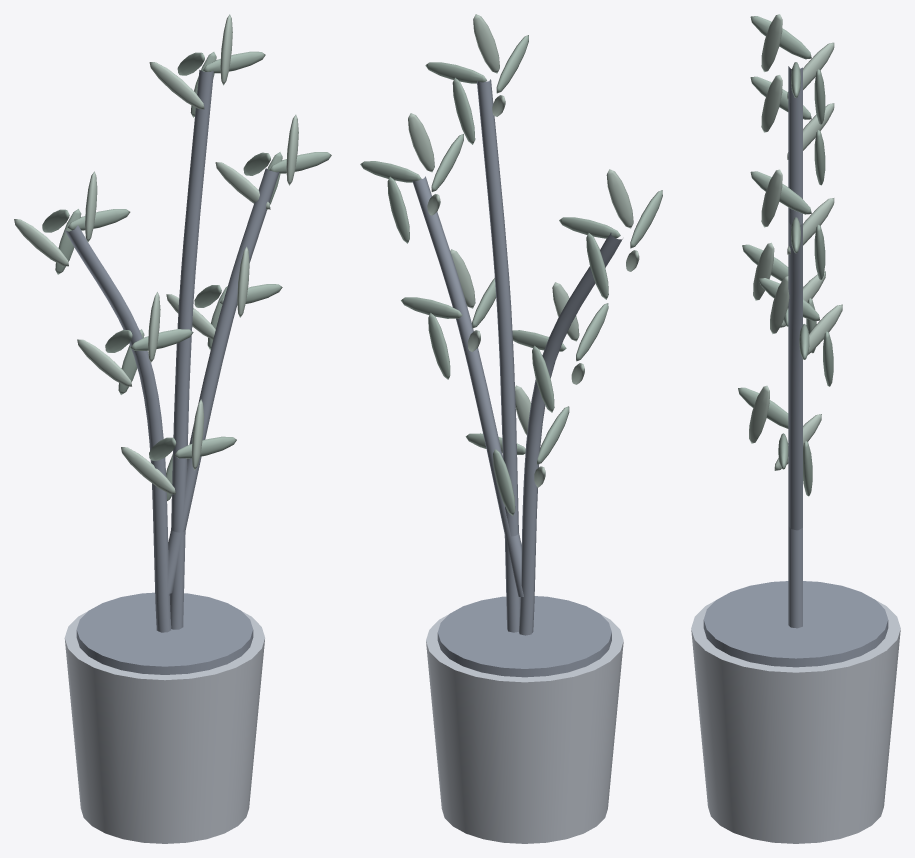
File: plant-lite.glb
3 views of the same model, side by side, from view 1: azimuth 30°, elevation 25°; view 2: azimuth 150°, elevation 25°; view 3: azimuth 270°, elevation 25° (orthographic). The views are drawn at different scales.
Visible parts, largest first — view 1: plant; view 2: plant; view 3: plant.
Boxes of the visible parts, x1=… form: plant: x1=14, y1=14, x2=331, y2=843; plant: x1=360, y1=14, x2=662, y2=843; plant: x1=691, y1=14, x2=900, y2=843.
Size of the model in its own units: 0.6467 by 1.62 by 0.375.
